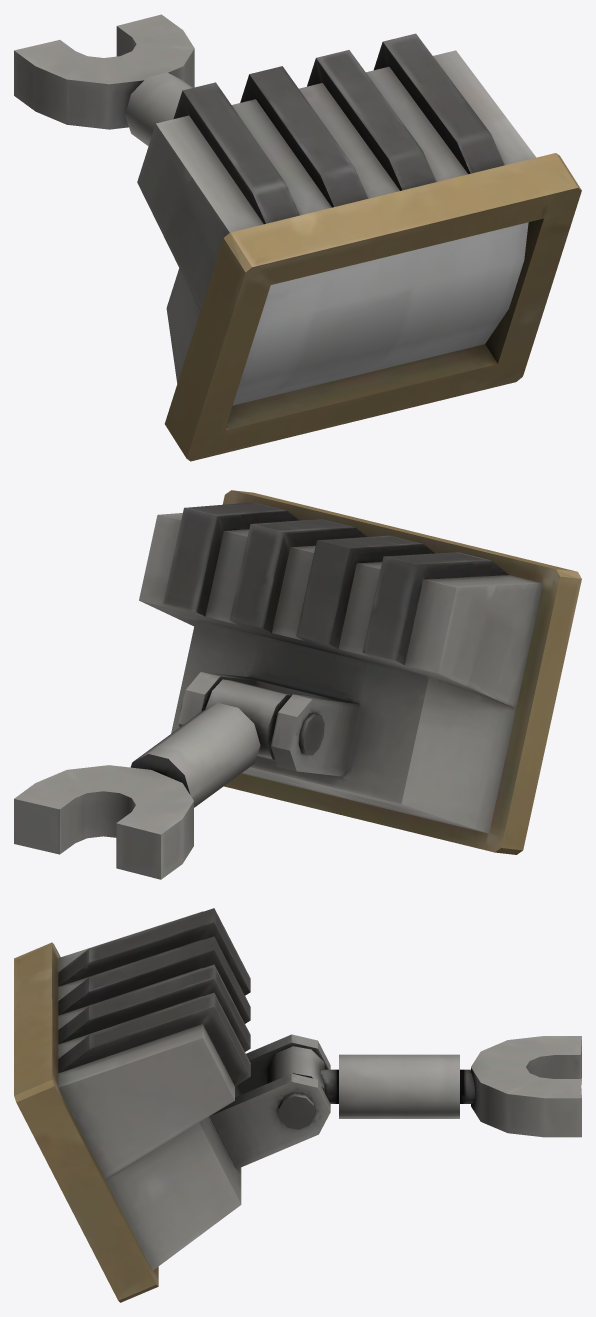
The picture shows the model from 3 angles, top to bottom: view 1: azimuth 30°, elevation 25°; view 2: azimuth 150°, elevation 25°; view 3: azimuth 270°, elevation 25°; orthographic projection. The views are drawn at different scales.
Visible parts, largest first — view 1: body0_model0_lod0_mesh0; view 2: body0_model0_lod0_mesh0; view 3: body0_model0_lod0_mesh0.
Part boxes in pixels (x1,y1,x2,y2): body0_model0_lod0_mesh0: (14, 14, 581, 461); body0_model0_lod0_mesh0: (14, 490, 581, 879); body0_model0_lod0_mesh0: (14, 908, 581, 1302).
Bounding box in the file's own units: 34.56 × 31.42 × 58.44.
Materials: 1 (1 with a texture image).
